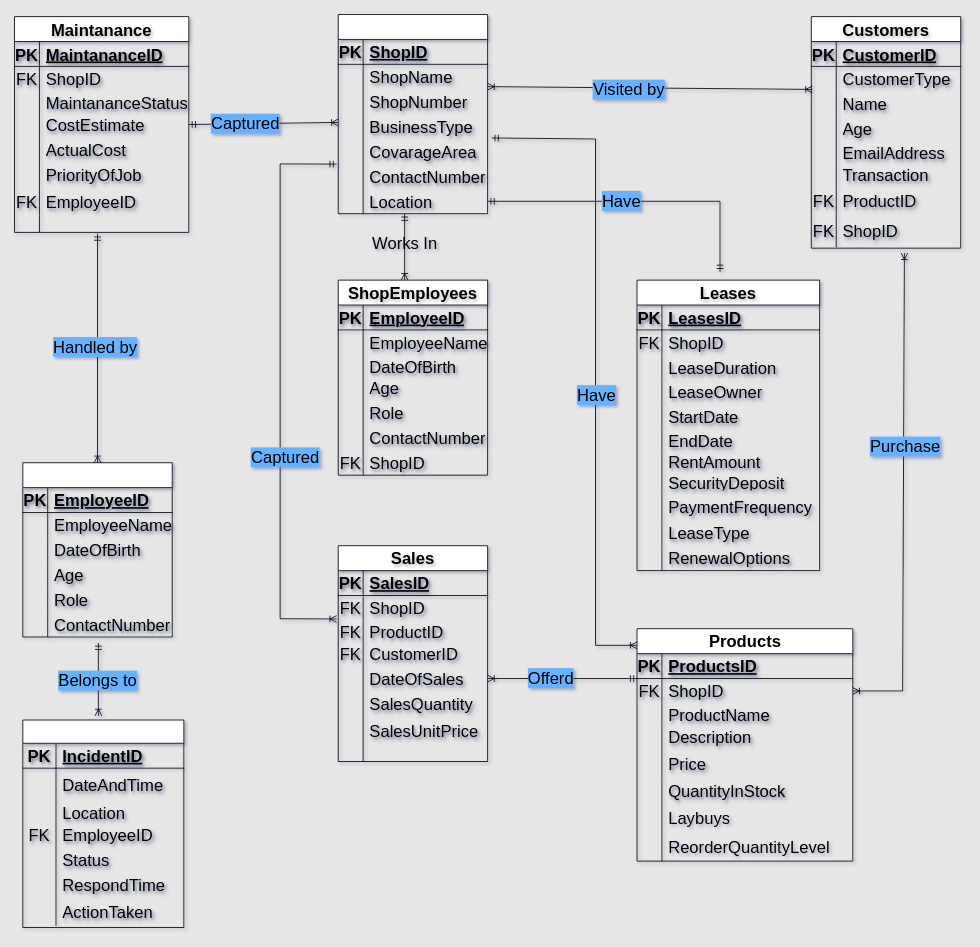
This 980x947 diagram has some shape labels left out. Each missing label, with the box of its shape:
MallEmployees: (22, 462, 172, 637)
SecurityForIncident: (22, 719, 184, 928)
Shops: (337, 14, 488, 214)
